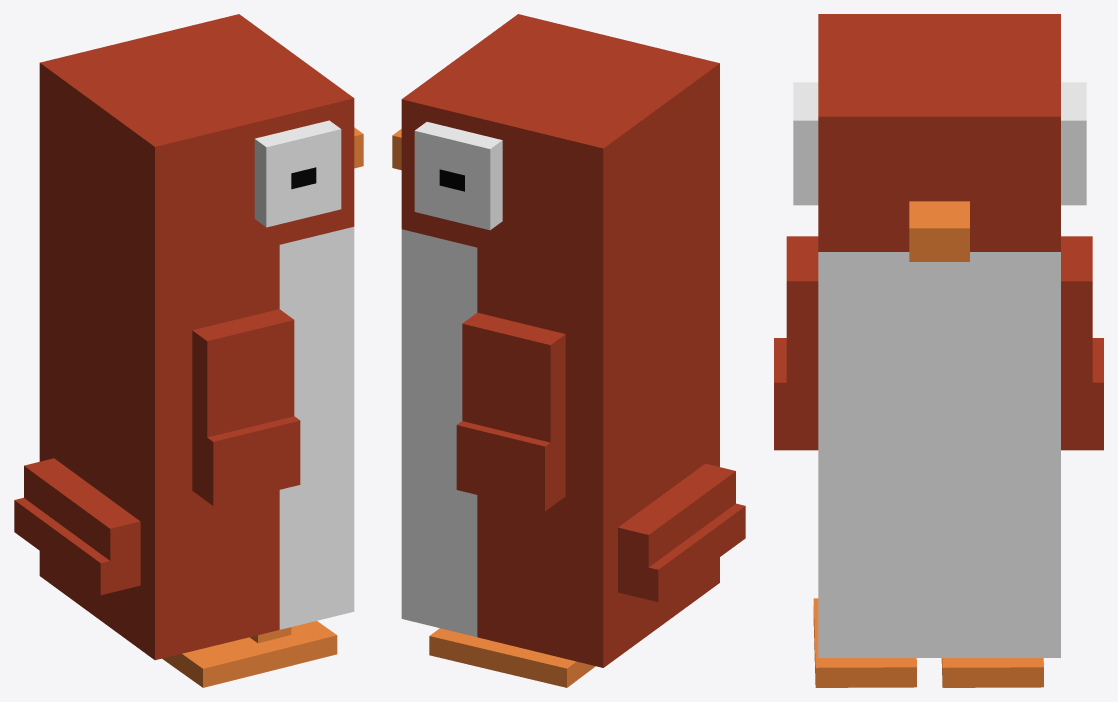
The model's file is penguin_npc.glb.
The picture shows the model from 3 angles, left to right: view 1: azimuth 30°, elevation 25°; view 2: azimuth 150°, elevation 25°; view 3: azimuth 270°, elevation 25°; orthographic projection. The views are drawn at different scales.
Parts seen in each view (by area): view 1: Cuerpo azul, Cuerpo blanco, Ojos blanco, Pata 1; view 2: Cuerpo azul, Cuerpo blanco, Ojos blanco, Pata 2; view 3: Cuerpo blanco, Cuerpo azul, Ojos blanco, Pico, Pata 1, Pata 2.
Boxes of the visible parts, x1,y1,x2,y2 form: Cuerpo azul: [14, 14, 354, 660]; Cuerpo blanco: [279, 227, 354, 629]; Ojos blanco: [254, 120, 341, 227]; Pata 1: [162, 621, 337, 687]; Cuerpo azul: [401, 14, 745, 667]; Cuerpo blanco: [401, 229, 477, 636]; Ojos blanco: [414, 122, 502, 230]; Pata 2: [429, 628, 595, 687]; Cuerpo blanco: [818, 252, 1060, 657]; Cuerpo azul: [774, 14, 1103, 450]; Ojos blanco: [793, 82, 1086, 205]; Pico: [909, 201, 969, 261]; Pata 1: [813, 598, 916, 687]; Pata 2: [941, 658, 1043, 687].
Bounding box in the file's own units: 2.93 × 5.28 × 2.72.
